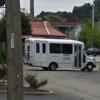Bus: (25, 34, 95, 72)
